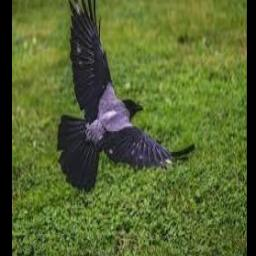Crow: (58, 0, 195, 194)
